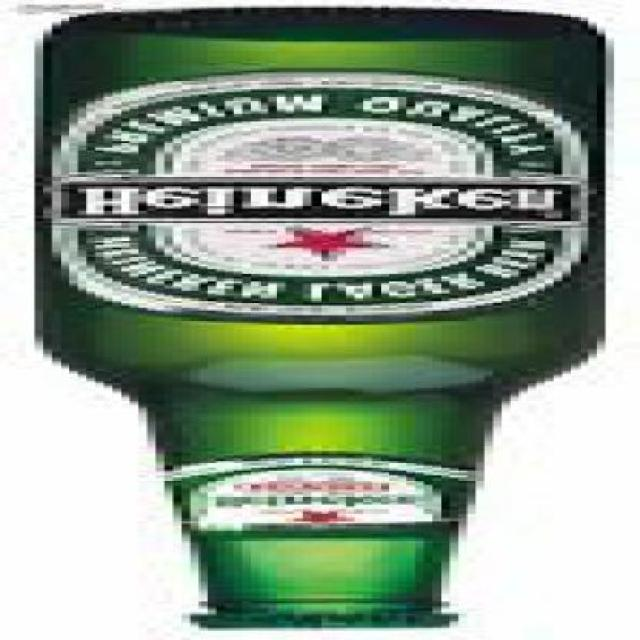GLASS: (18, 7, 596, 630)
METAL: (182, 618, 432, 633)
